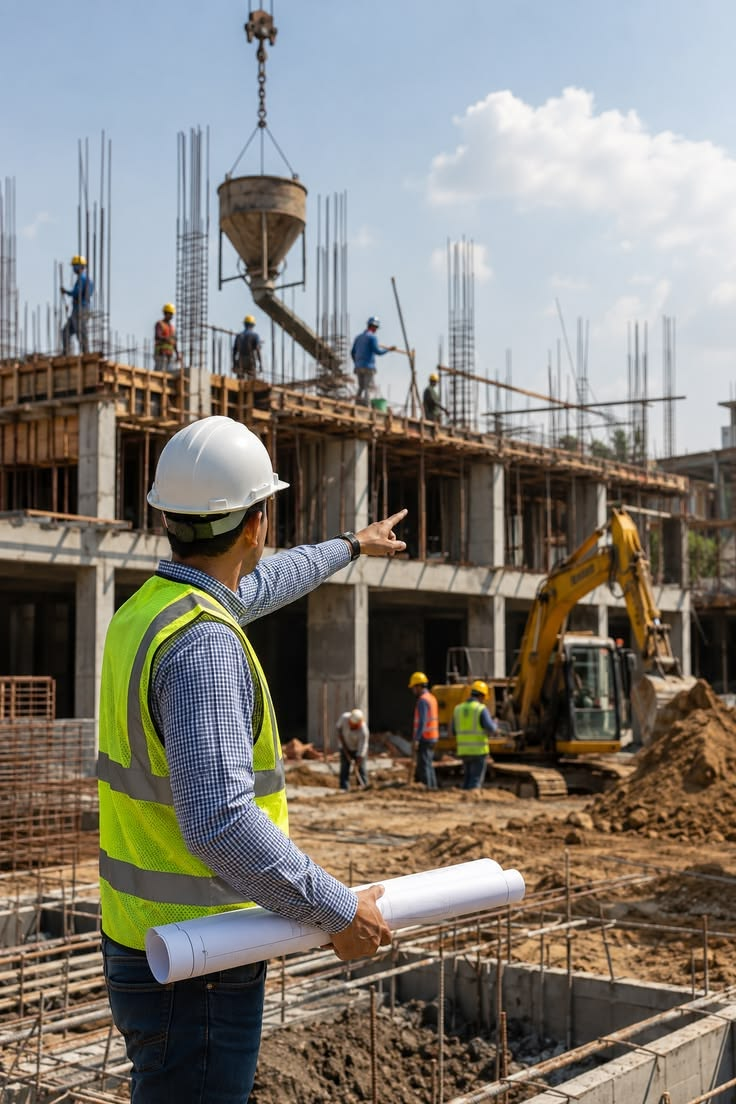excavator: (453, 471, 714, 838)
hardhat: (128, 415, 280, 519), (449, 679, 493, 697), (236, 311, 269, 332), (367, 308, 391, 335), (144, 292, 181, 309), (428, 362, 453, 386), (402, 665, 429, 686), (61, 250, 90, 266)
no_safety_vest: (226, 321, 268, 370), (63, 273, 100, 324), (335, 711, 367, 754), (353, 332, 378, 378), (423, 378, 449, 422), (151, 316, 175, 346)
person: (76, 401, 353, 1086), (335, 290, 405, 426), (445, 674, 498, 826), (45, 245, 114, 361), (388, 650, 439, 801), (215, 300, 290, 396), (130, 290, 192, 398), (421, 356, 482, 457), (329, 684, 380, 799)
safety_vest: (85, 574, 300, 983), (455, 694, 498, 775), (404, 690, 439, 767)
